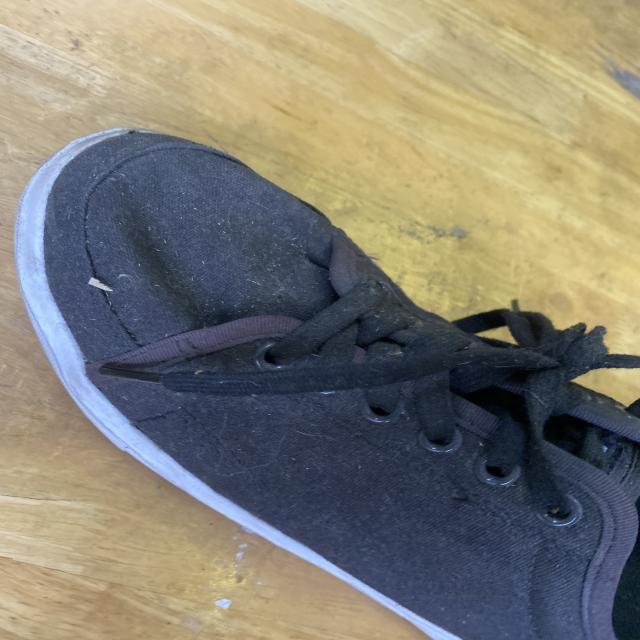broken-error: (434, 483, 489, 516)
